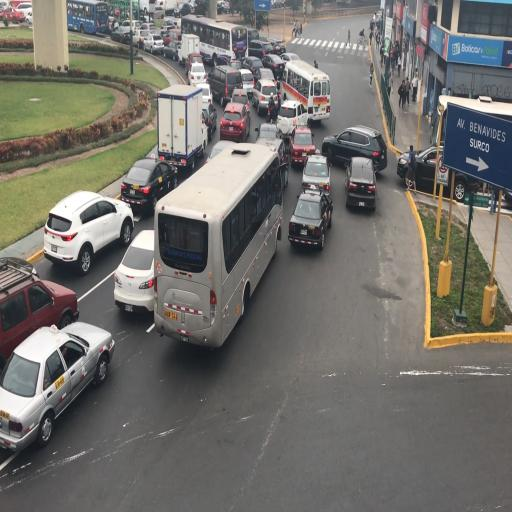auto: (2, 320, 115, 454), (0, 256, 78, 374), (42, 184, 132, 269), (398, 142, 504, 202), (121, 152, 179, 214), (114, 230, 155, 316), (325, 124, 384, 173), (287, 188, 331, 250), (252, 128, 289, 189), (344, 155, 375, 212), (209, 64, 243, 107), (301, 151, 330, 196), (220, 101, 250, 143), (289, 124, 316, 168), (276, 100, 304, 138), (252, 78, 278, 116), (260, 53, 286, 81), (249, 37, 277, 60), (255, 67, 276, 94), (256, 121, 280, 144), (241, 56, 264, 79), (141, 32, 164, 55), (136, 22, 157, 44), (125, 25, 145, 48), (186, 52, 205, 76), (0, 6, 24, 25), (163, 38, 182, 60), (14, 2, 32, 22), (161, 27, 178, 48), (278, 52, 301, 67), (122, 14, 141, 32), (152, 26, 170, 44), (198, 84, 212, 106), (155, 2, 166, 16), (217, 0, 227, 11)
bus: (157, 84, 206, 178)
camion: (359, 28, 366, 47)
moto: (154, 144, 279, 340), (282, 58, 329, 123), (181, 14, 236, 65), (67, 0, 110, 37)
